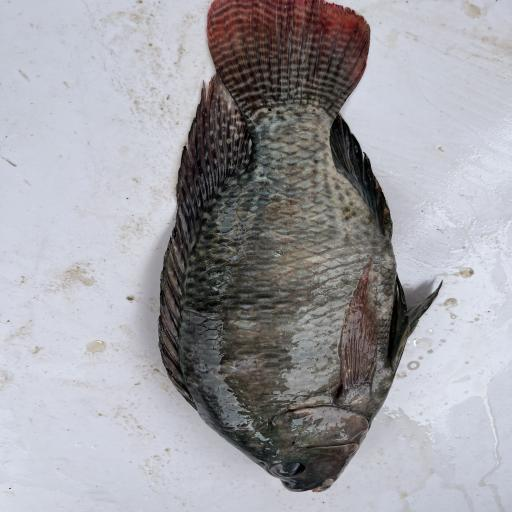Tilapia: (159, 0, 444, 493)
